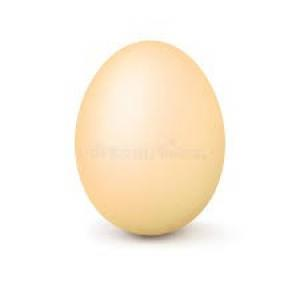Egg: (73, 40, 228, 238)
